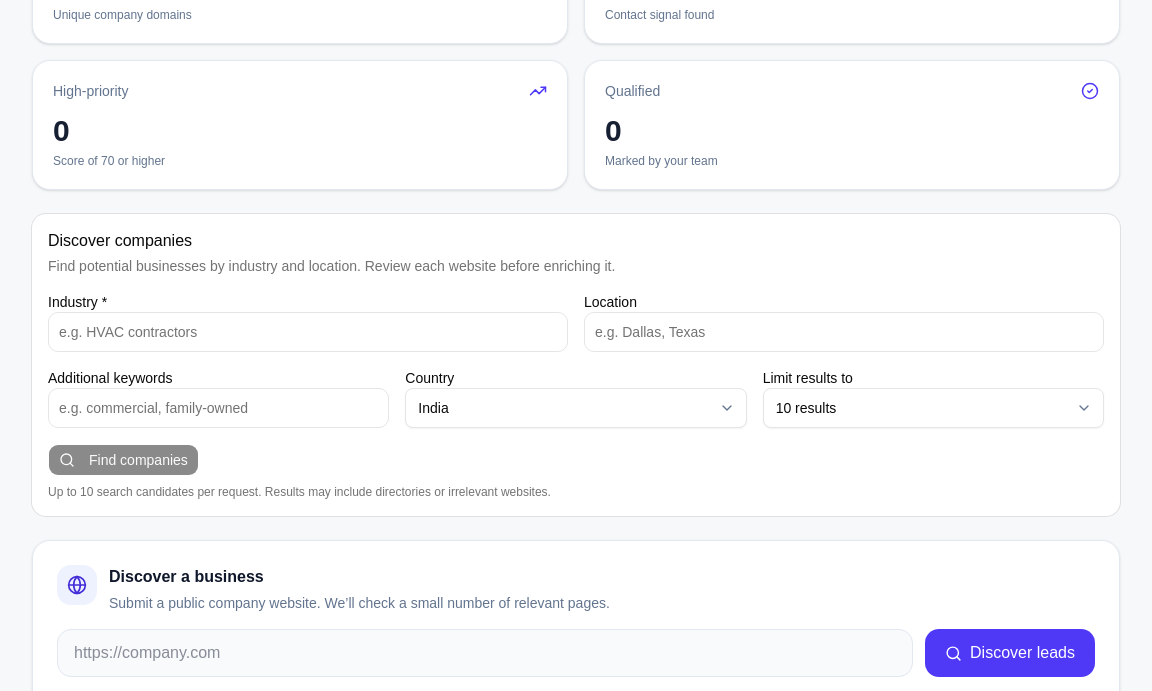
Dashboard › submits a discovery request and renders returned candidates
The image size is (1152, 691).
(page scrolled)
In the field labelled "Industry *": (308, 332) [48,312,568,352], type "HVAC"
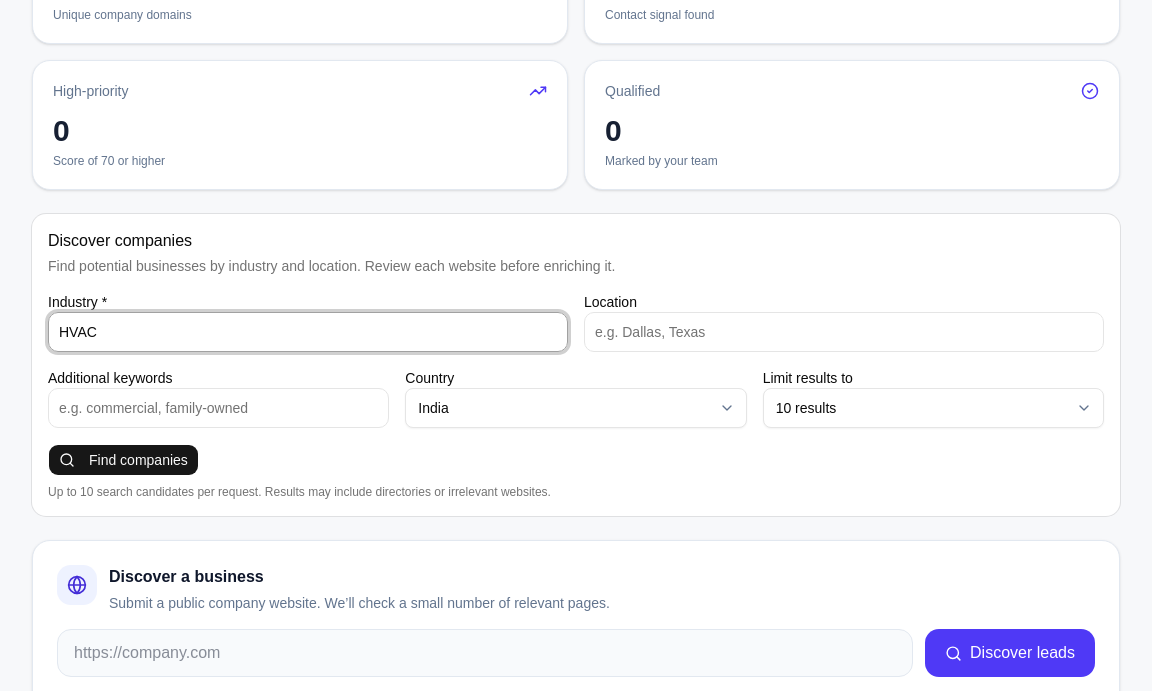
Submit the form "Find companies", box [48,292,1104,500]
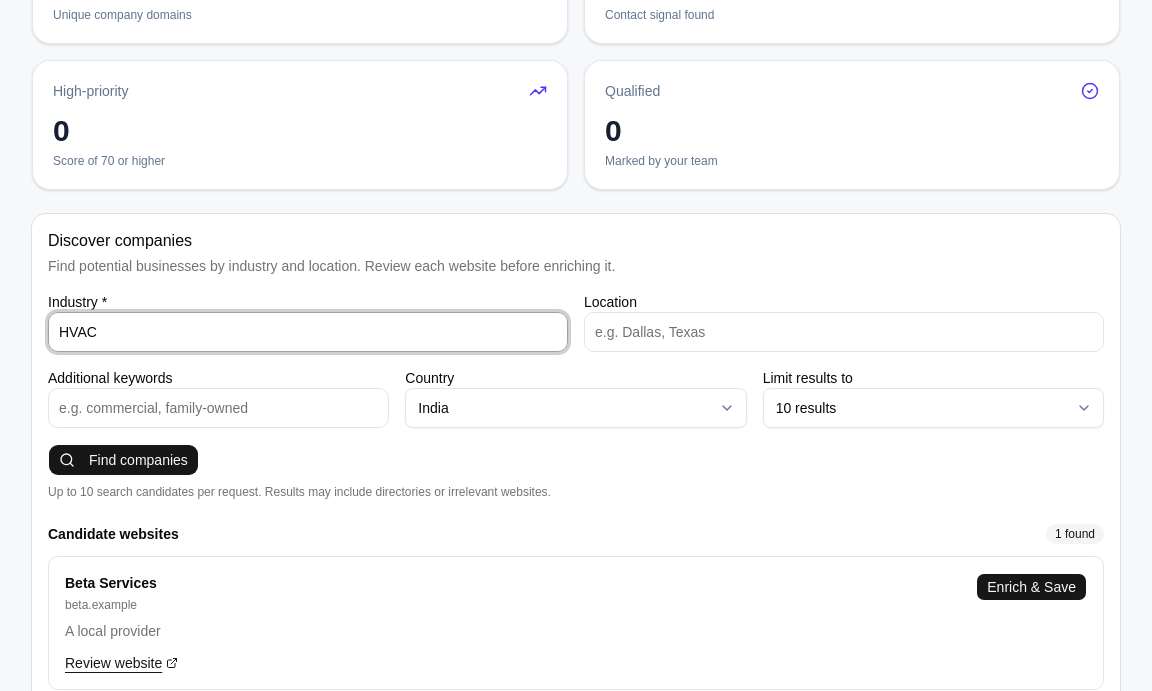
Expected: the heading "Beta Services" is shown, [65,573,157,593]
